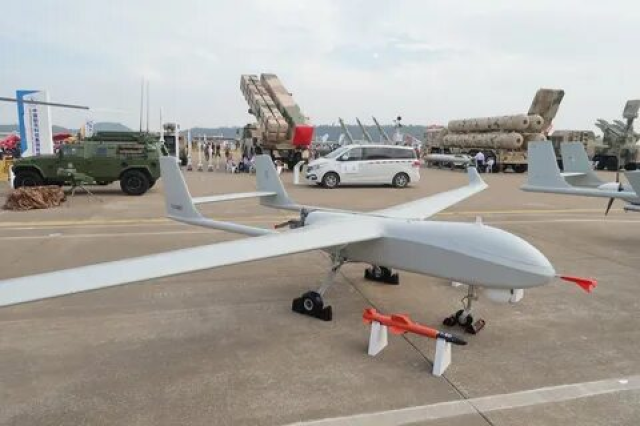military drone: (0, 154, 596, 327)
